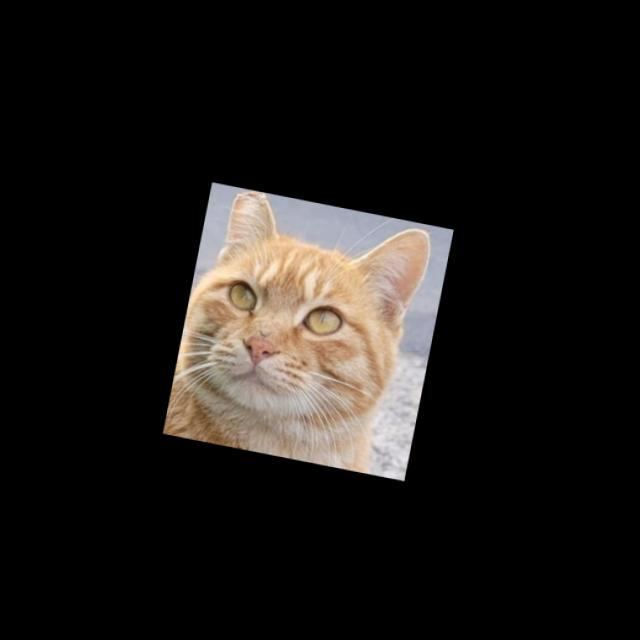animals: (173, 180, 442, 442)
